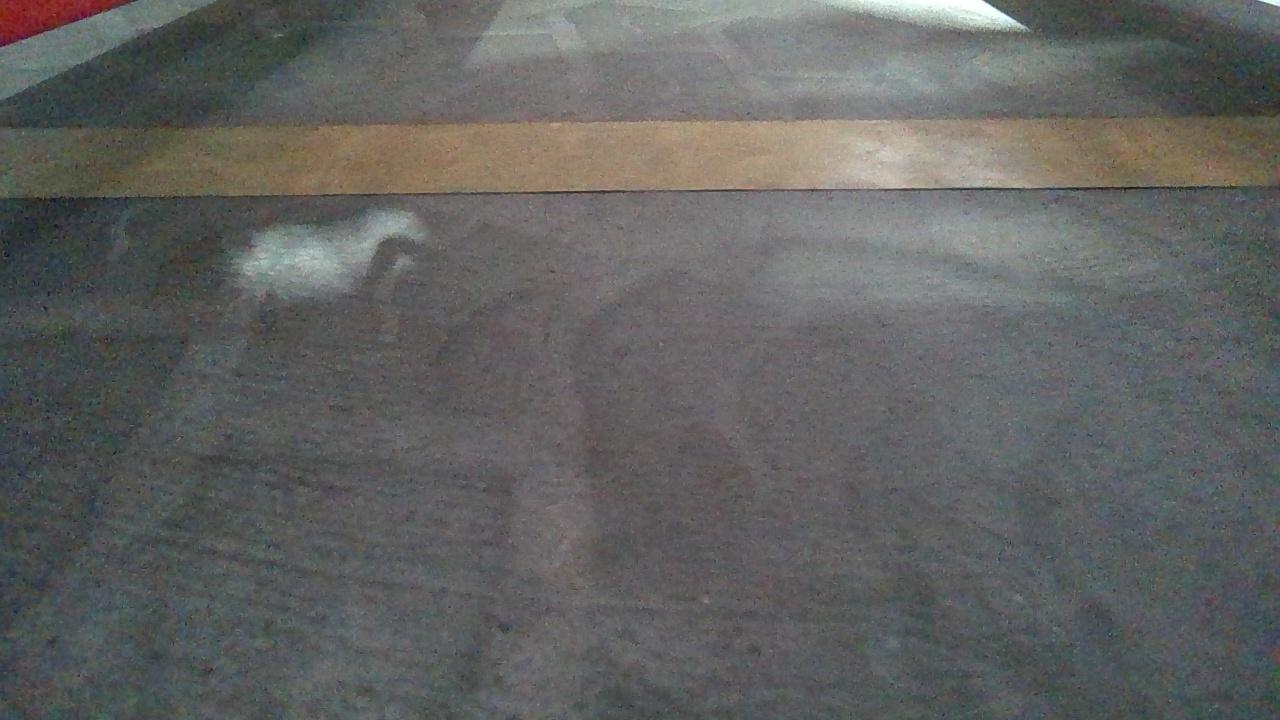yellow_line: (0, 112, 1280, 192)
